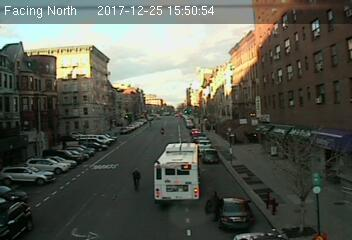bicycle: (132, 165, 142, 194)
bus: (153, 142, 201, 202)
car: (208, 190, 256, 229), (202, 147, 219, 164)
